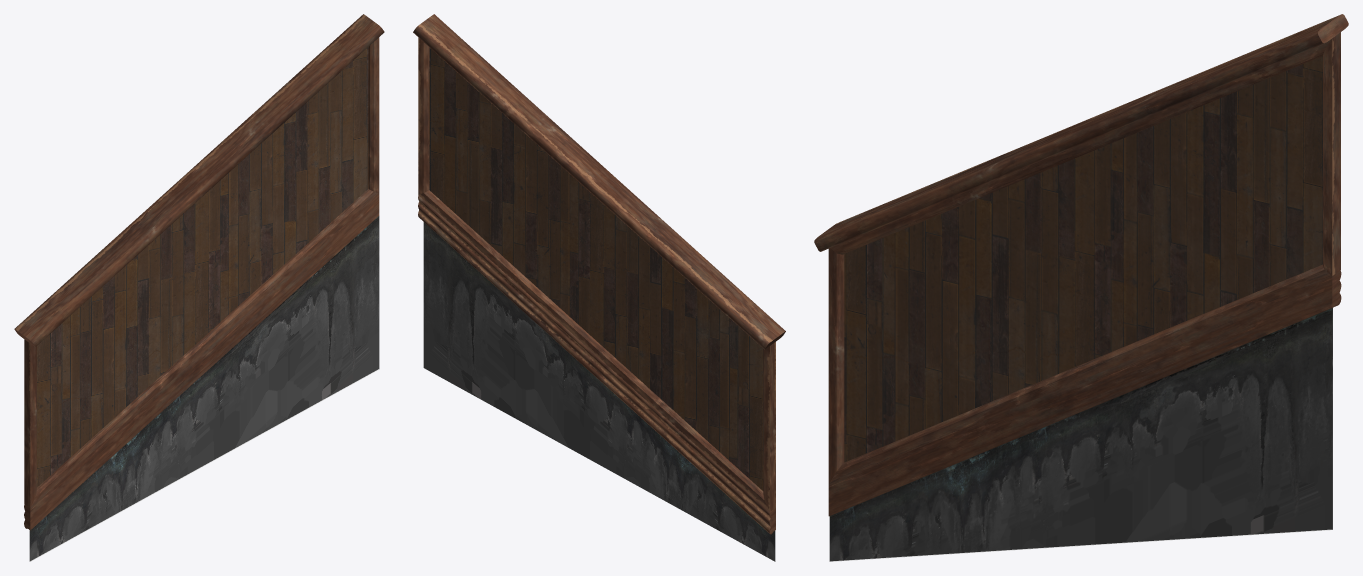
File: Kit_LadderRailing.fbx
The picture shows the model from 3 angles, left to right: view 1: azimuth 30°, elevation 25°; view 2: azimuth 150°, elevation 25°; view 3: azimuth 330°, elevation 25°; orthographic projection. The views are drawn at different scales.
Parts seen in each view (by area): view 1: Kit_LadderRailing; view 2: Kit_LadderRailing; view 3: Kit_LadderRailing.
Part boxes in pixels (x1=…): Kit_LadderRailing: x1=14, y1=14, x2=384, y2=561; Kit_LadderRailing: x1=413, y1=14, x2=785, y2=561; Kit_LadderRailing: x1=814, y1=14, x2=1348, y2=561.
Size of the model in its own units: 88 by 108 by 7.87.
